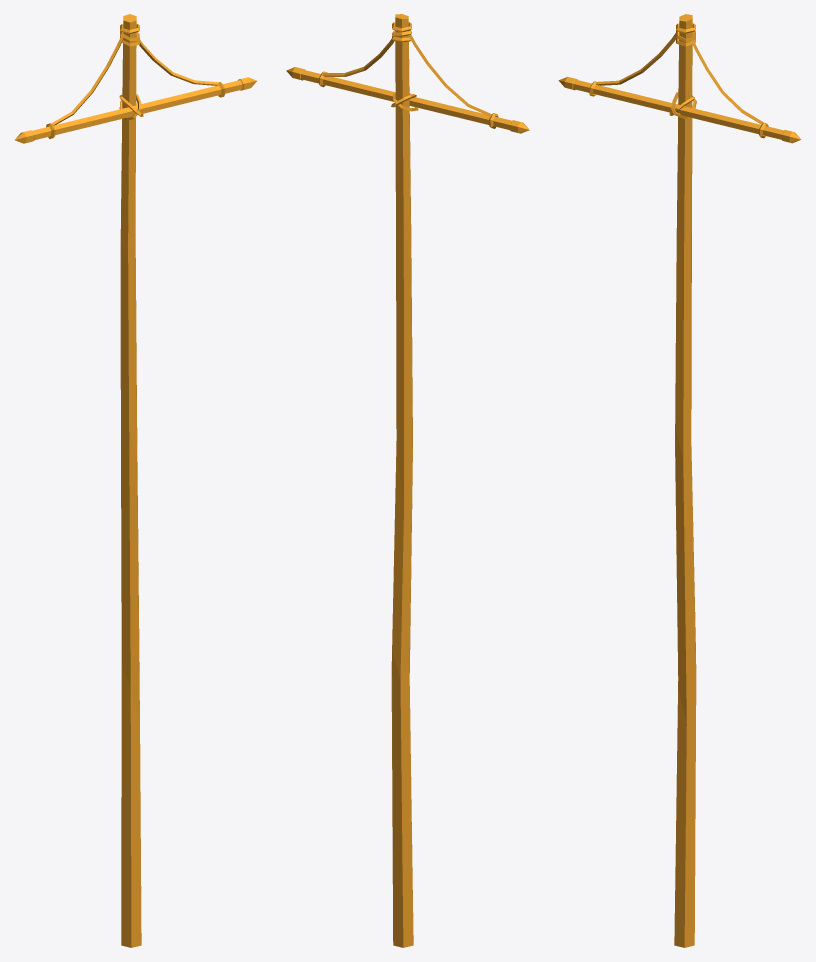
Rendered from SM_Flag_Stand_Wood_T_B_Fantasy.fbx.
3 views of the same model, side by side, from view 1: azimuth 30°, elevation 25°; view 2: azimuth 150°, elevation 25°; view 3: azimuth 330°, elevation 25° (orthographic).
Visible parts, largest first — view 1: flag-stand-wood-t-b-fantasy; view 2: flag-stand-wood-t-b-fantasy; view 3: flag-stand-wood-t-b-fantasy.
Boxes of the visible parts, x1=… form: flag-stand-wood-t-b-fantasy: x1=15, y1=14, x2=257, y2=947; flag-stand-wood-t-b-fantasy: x1=286, y1=14, x2=529, y2=947; flag-stand-wood-t-b-fantasy: x1=558, y1=14, x2=801, y2=947.
Bounding box in the file's own units: 1.46 × 5.31 × 0.1874.
